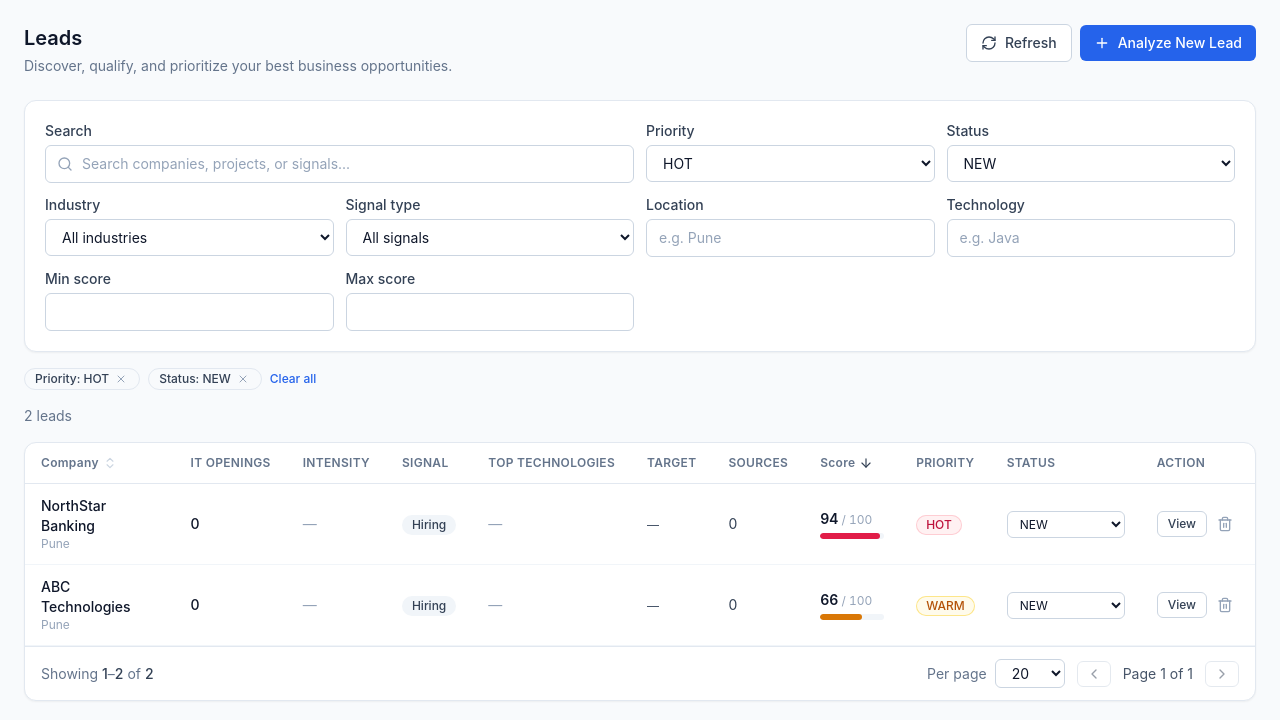
Scenario: LeadsPage › clears all filters from the chip bar
expect the text "NorthStar Banking" is shown: met, box [41,497,106,534]
Click the button "Clear all" at (293, 379), box [270,371,316,387]
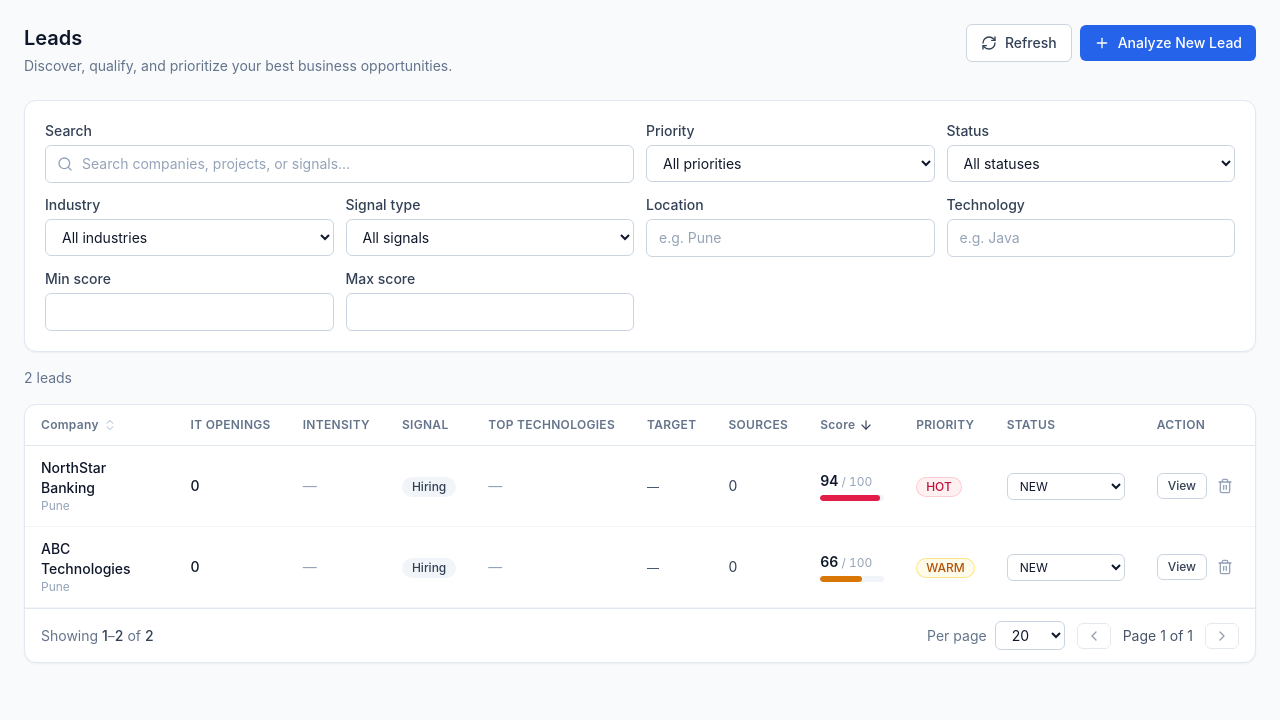
expect the text "Priority: HOT" is gone: met
expect the text "Status: NEW" is gone: met
